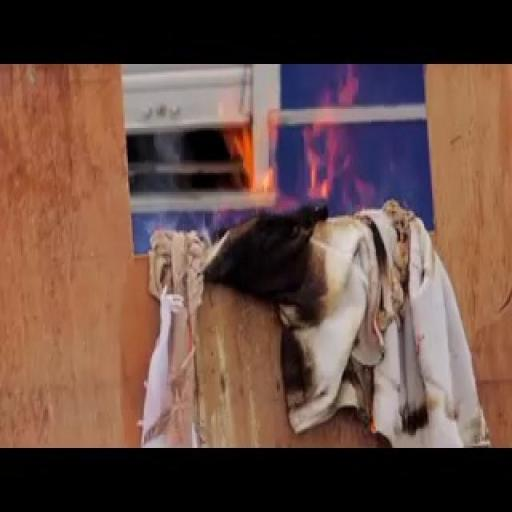smoke: (202, 66, 390, 232)
